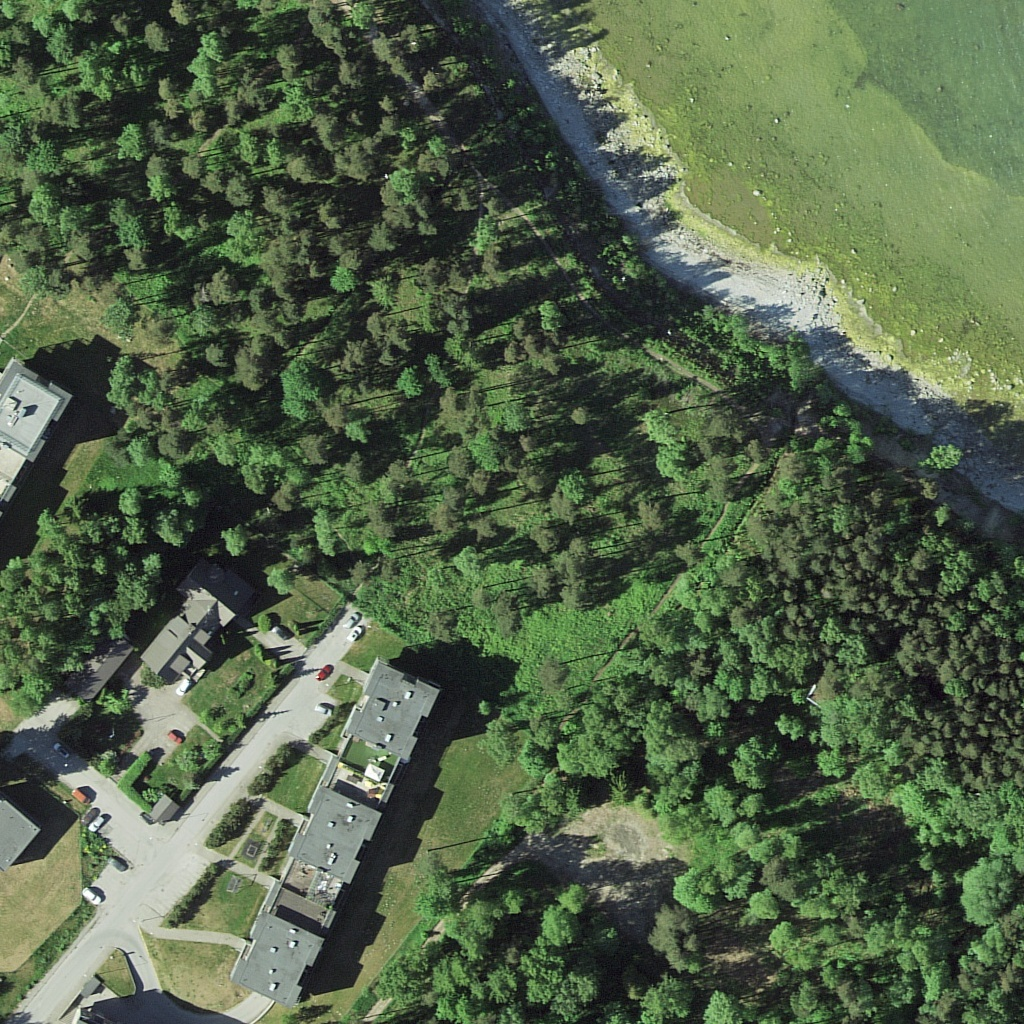building: (136, 575, 237, 691), (287, 785, 389, 896), (230, 903, 324, 1017), (345, 663, 436, 766), (1, 362, 74, 459)
